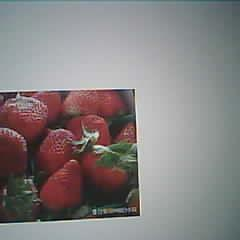straw-ripe: (2, 96, 48, 140), (42, 161, 83, 210)
